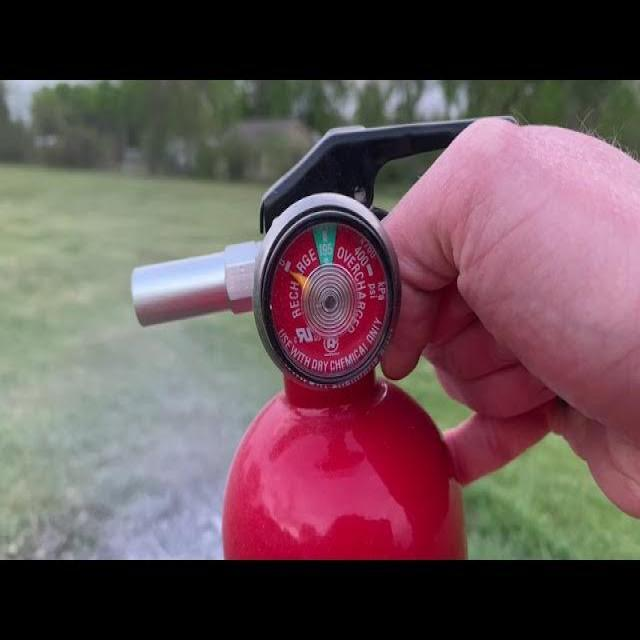pressure gauge: (269, 224, 388, 380)
